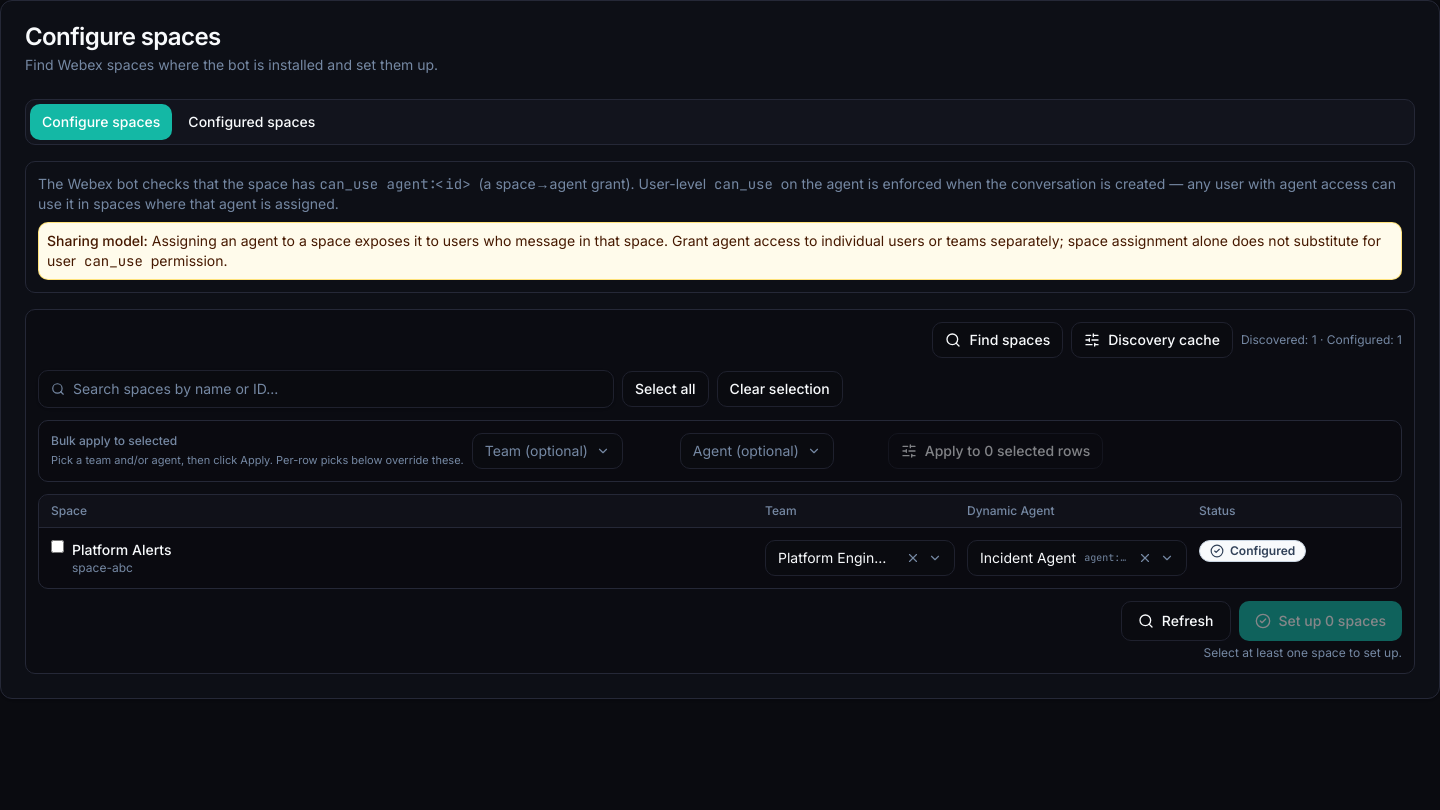
allows discovery before global defaults are configured
Click the button "Find spaces" at (998,340), box x1=932 y1=322 x2=1063 y2=358
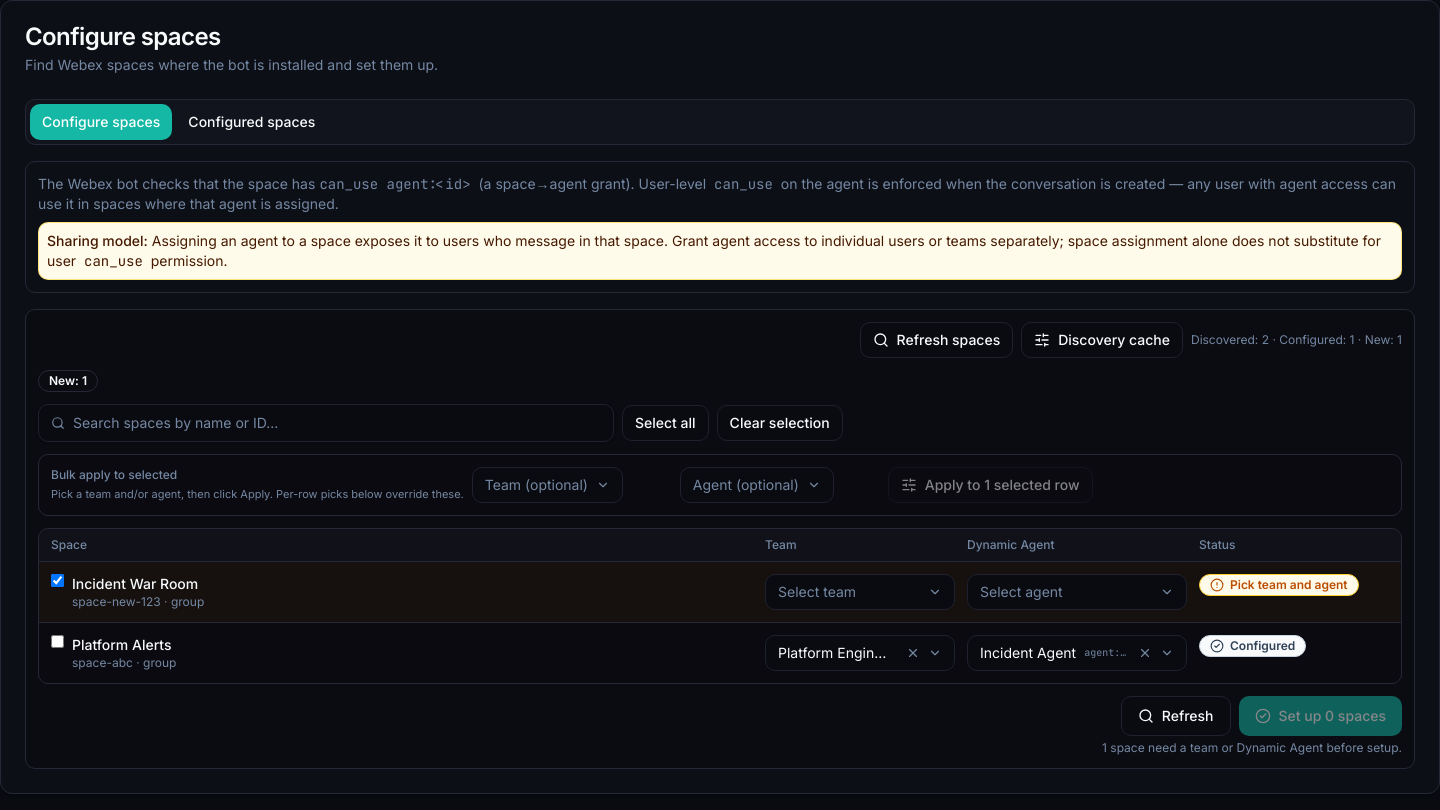
Now the message "Discovered: 2 · Configured: 1 · New: 1" is shown, box x1=1191 y1=332 x2=1402 y2=348
Now the checkbox named "Import Incident War Room" is checked, box x1=51 y1=574 x2=64 y2=587
